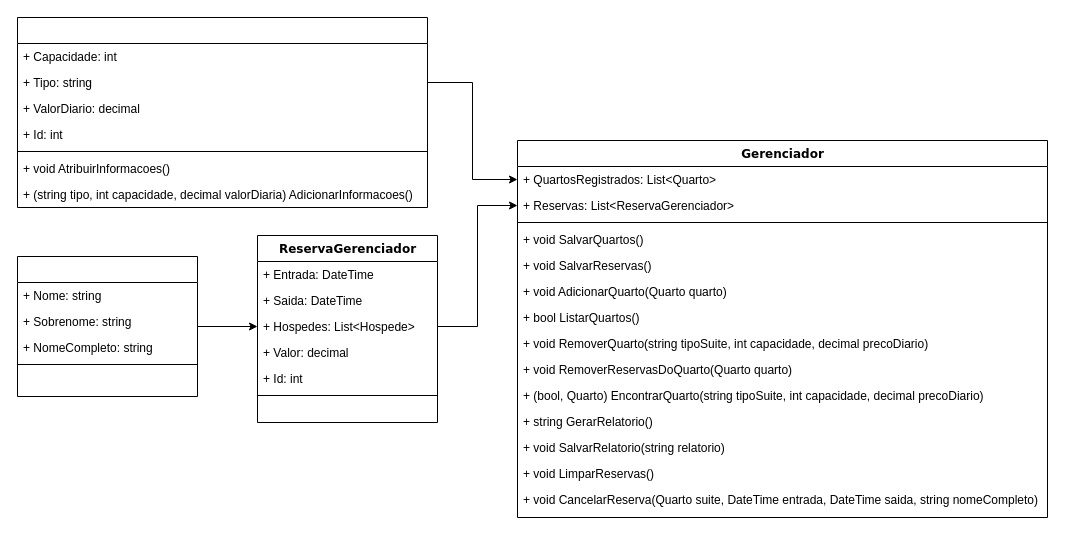
This 1065x535 diagram has some shape labels left out. The box of each missing label's shape, as (x1, y1, x2, y2) in pixels:
Hospede: (16, 256, 198, 396)
Quarto: (16, 16, 428, 208)
